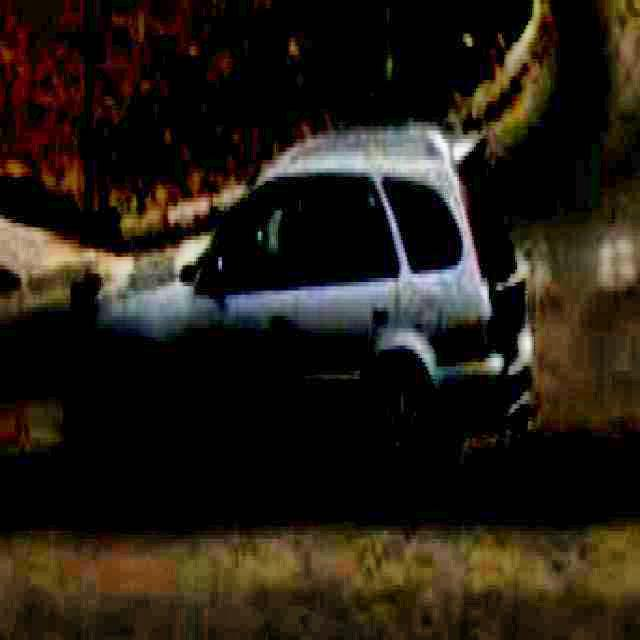carro: (79, 170, 539, 498)
